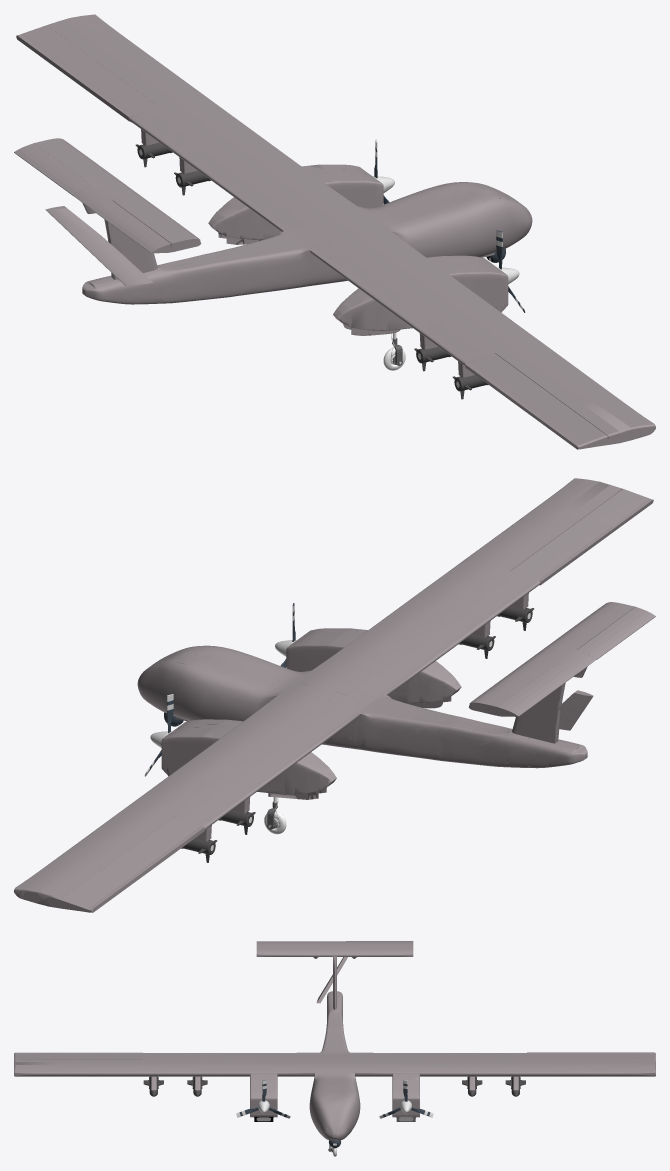
3 renders of one model, top to bottom at view 1: azimuth 30°, elevation 25°; view 2: azimuth 150°, elevation 25°; view 3: azimuth 270°, elevation 25°, orthographic. The views are drawn at different scales.
Parts seen in each view (by area): view 1: Plane_38, Plane.016_1, Plane.015_3, Plane.019_15, Plane.017_13, Plane.018_11; view 2: Plane_38, Plane.015_3, Plane.016_1, Plane.018_11, Plane.017_13, Plane.019_15; view 3: Plane_38, Plane.016_1, Plane.015_3.
Boxes of the visible parts, x1=… form: Plane_38: x1=34, y1=14, x2=655, y2=444; Plane.016_1: x1=465, y1=353, x2=608, y2=449; Plane.015_3: x1=16, y1=25, x2=158, y2=120; Plane.019_15: x1=45, y1=206, x2=152, y2=285; Plane.017_13: x1=92, y1=200, x2=172, y2=253; Plane.018_11: x1=14, y1=143, x2=92, y2=195; Plane_38: x1=14, y1=478, x2=635, y2=908; Plane.015_3: x1=61, y1=817, x2=204, y2=912; Plane.016_1: x1=511, y1=489, x2=653, y2=585; Plane.018_11: x1=497, y1=664, x2=577, y2=716; Plane.017_13: x1=577, y1=607, x2=655, y2=659; Plane.019_15: x1=558, y1=690, x2=593, y2=730; Plane_38: x1=14, y1=941, x2=655, y2=1140; Plane.016_1: x1=14, y1=1052, x2=142, y2=1059; Plane.015_3: x1=527, y1=1052, x2=655, y2=1059.
Bounding box in the file's own units: 6.58 × 2.52 × 13.66.
